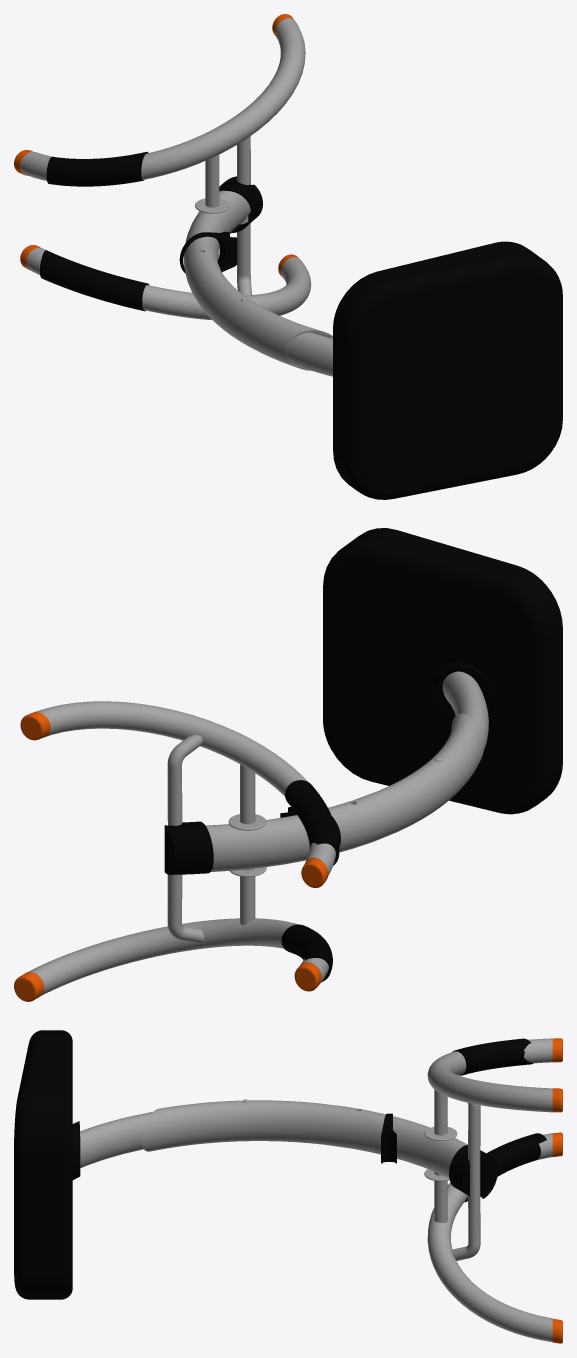
File: C-Seat.fbx
3 renders of one model, top to bottom at view 1: azimuth 30°, elevation 25°; view 2: azimuth 150°, elevation 25°; view 3: azimuth 270°, elevation 25°, orthographic. The views are drawn at different scales.
Visible parts, largest first — view 1: Cuerpo1 (2), tubo inf, pata izq, pata dere (1), pata dere (2), Cuerpo1 (1), pata izq (1) (2) (1) (1), Body25, Tubo sup (1), Cuerpo14, Cuerpo10, Eje; view 2: Cuerpo1 (1), tubo inf, pata izq, pata dere (1), Cuerpo1 (2), Body25, Cuerpo10, pata izq (1) (2) (1) (1), Tubo sup (1), Eje, pata dere (2), Tubo sup (1) (1) (+4 smaller); view 3: tubo inf, Cuerpo1 (2), Cuerpo1 (1), pata dere (1), pata izq, Tubo sup (1), Body25, pata izq (1) (2) (1) (1), Cuerpo10, pata dere (2), Eje, Cuerpo14 (+1 smaller).
Part boxes in pixels (x1,y1,x2,y2): Cuerpo1 (2): (340,246,562,499); tubo inf: (184,190,332,370); pata izq: (20,18,305,180); pata dere (1): (142,257,311,320); pata dere (2): (40,250,148,311); Cuerpo1 (1): (333,241,533,487); pata izq (1) (2) (1) (1): (46,151,148,186); Body25: (237,136,252,295); Tubo sup (1): (241,297,332,376); Cuerpo14: (179,231,237,273); Cuerpo10: (219,176,262,233); Eje: (205,154,219,260); Cuerpo1 (1): (323,538,557,814); tubo inf: (205,713,483,871); pata izq: (34,701,335,875); pata dere (1): (26,918,297,995); Cuerpo1 (2): (347,528,562,800); Body25: (167,735,204,943); Cuerpo10: (164,821,213,874); pata izq (1) (2) (1) (1): (285,780,339,865); Tubo sup (1): (352,671,488,804); Eje: (240,764,255,925); pata dere (2): (281,924,332,981); Tubo sup (1) (1): (432,662,498,722); tubo inf: (141,1100,470,1188); Cuerpo1 (2): (14,1030,50,1299); Cuerpo1 (1): (51,1030,72,1299); pata dere (1): (427,1182,552,1341); pata izq: (427,1038,552,1112); Tubo sup (1): (80,1099,248,1168); Body25: (450,1103,480,1260); pata izq (1) (2) (1) (1): (452,1038,533,1075); Cuerpo10: (449,1145,497,1198); pata dere (2): (464,1133,546,1202); Eje: (434,1089,447,1222); Cuerpo14: (381,1113,396,1163).
Bounding box in the file's own units: 330 × 292 × 581.
